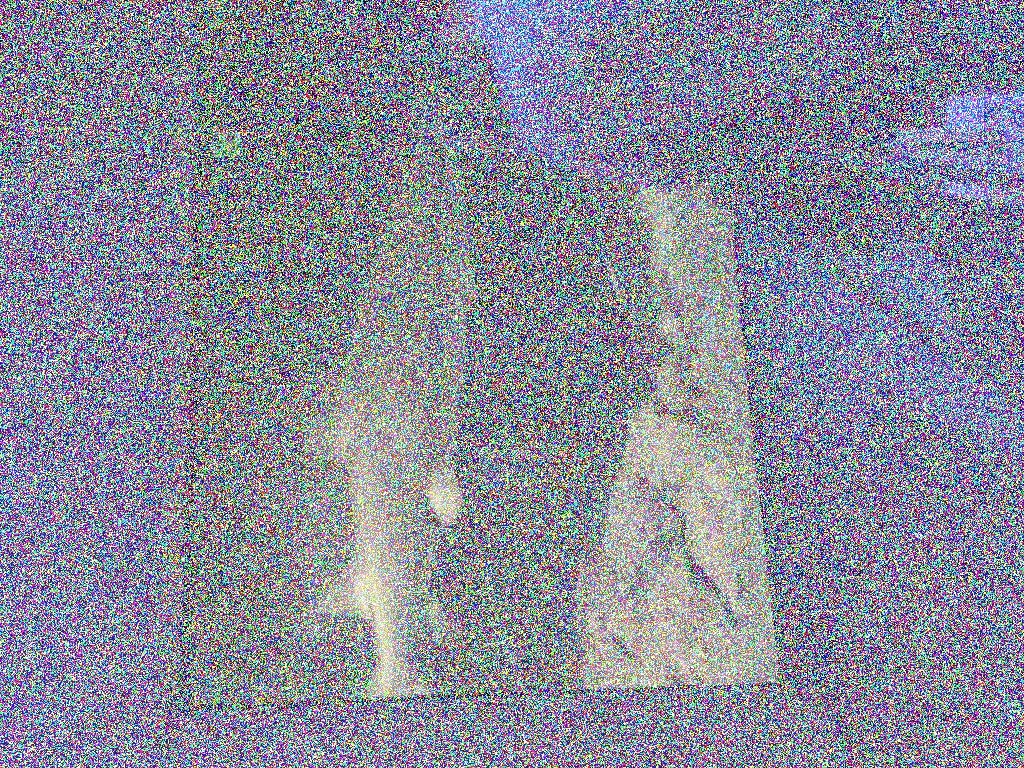shark: (292, 99, 478, 702)
